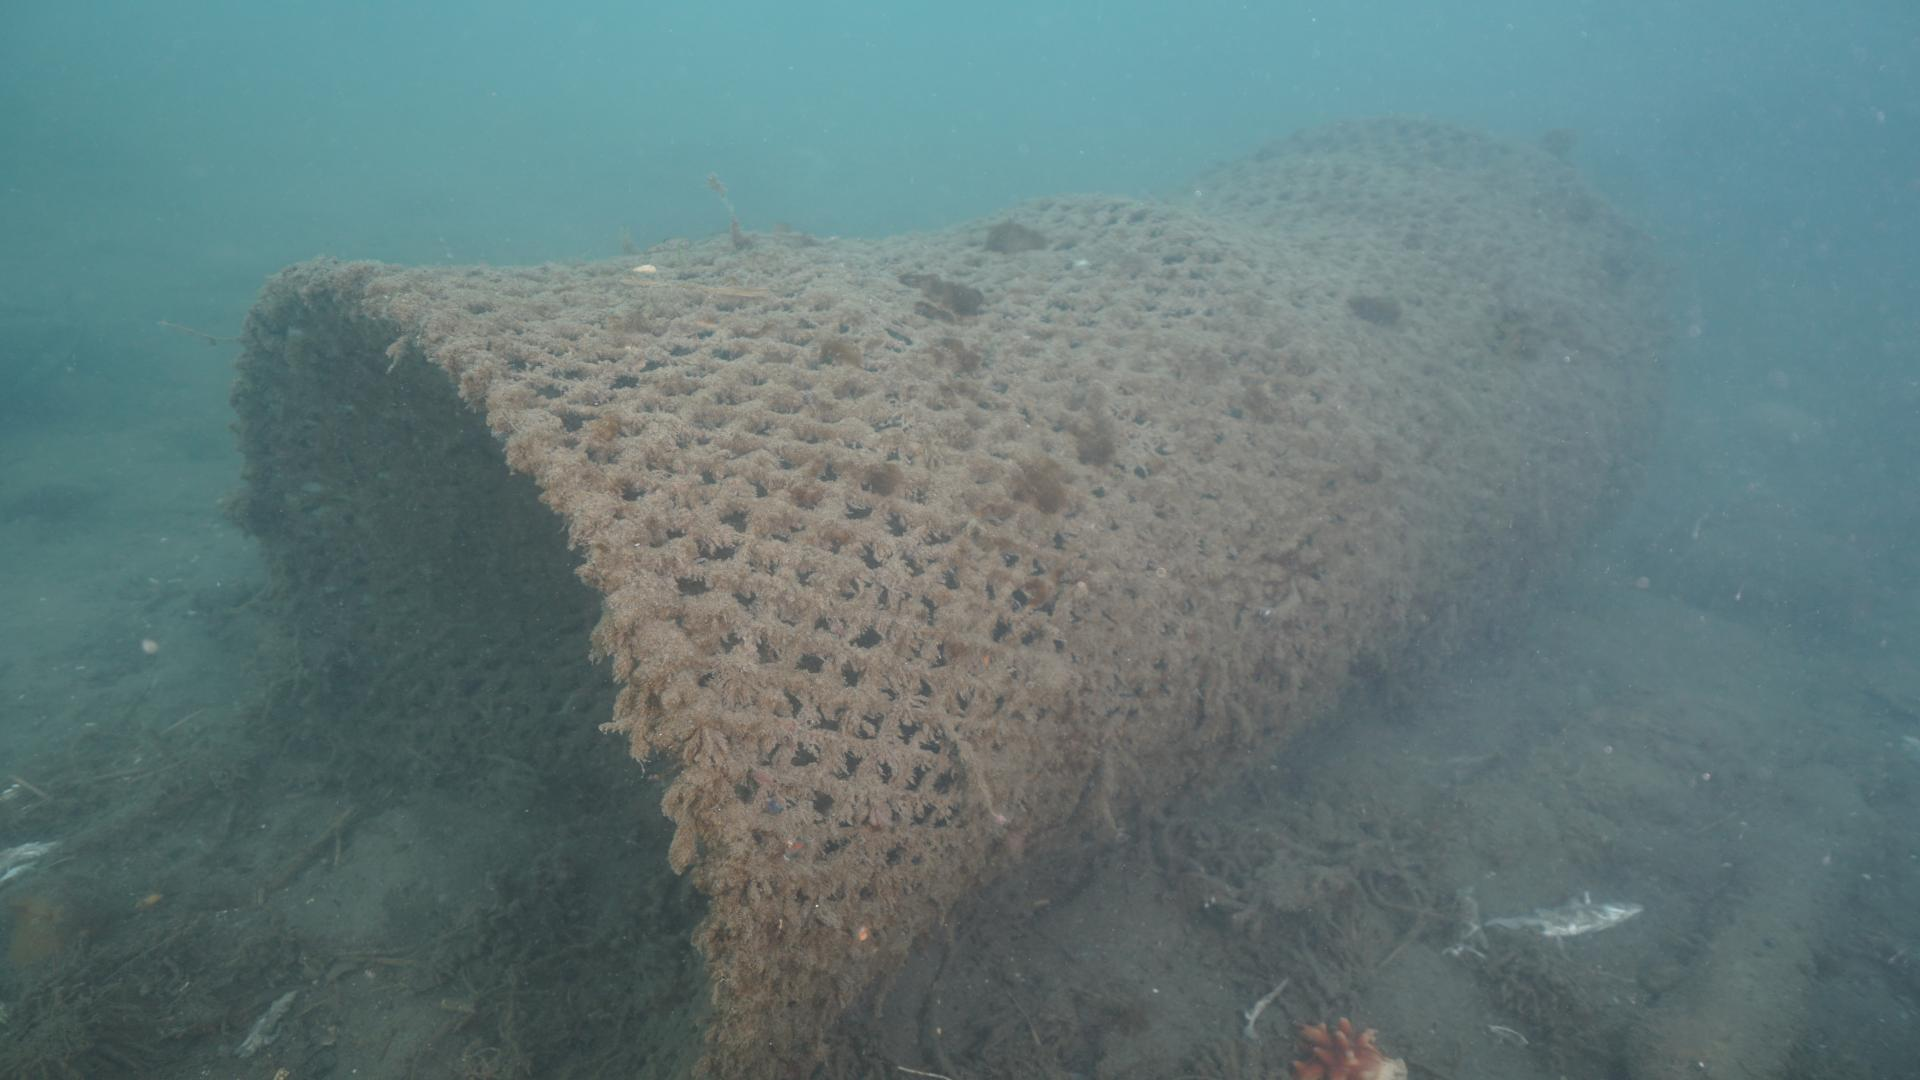spring fish trap: (229, 108, 1669, 1080)
